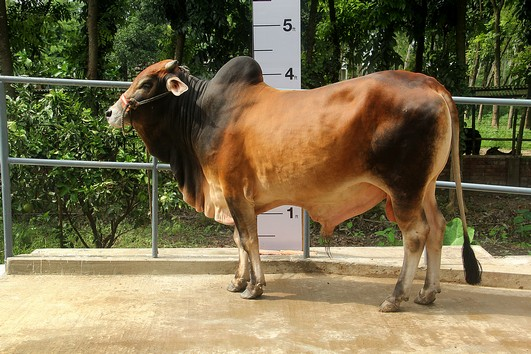cow: (104, 48, 485, 325)
